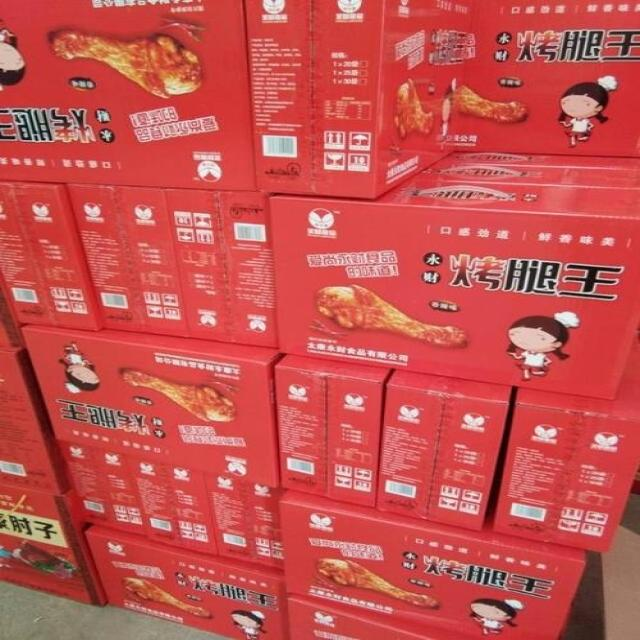box: (273, 175, 640, 401), (282, 487, 586, 640), (244, 0, 470, 199), (20, 324, 280, 485), (490, 328, 640, 555), (457, 0, 640, 156), (375, 369, 513, 533), (83, 527, 285, 637), (164, 187, 279, 350), (273, 358, 397, 509), (67, 182, 187, 338), (0, 180, 100, 329), (0, 484, 104, 610), (0, 345, 73, 495), (127, 455, 219, 558), (55, 442, 148, 538), (205, 470, 291, 572), (284, 591, 435, 639), (415, 160, 640, 188), (444, 151, 640, 170)
